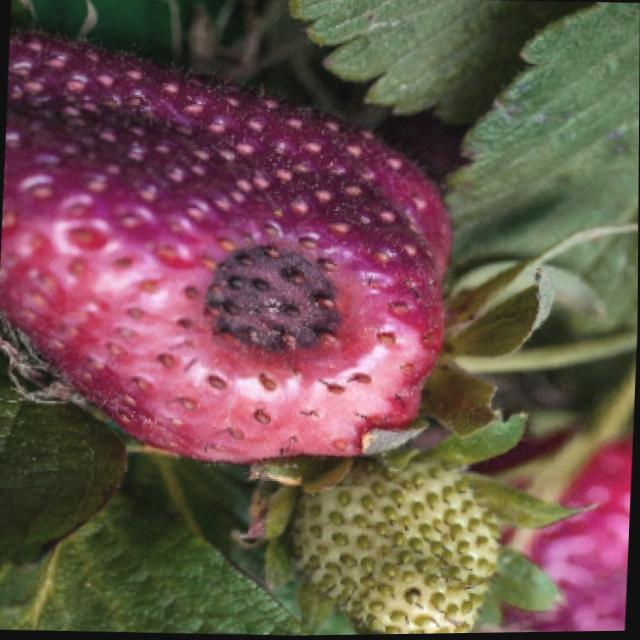Anthracnose Fruit Rot: (192, 226, 346, 376)
